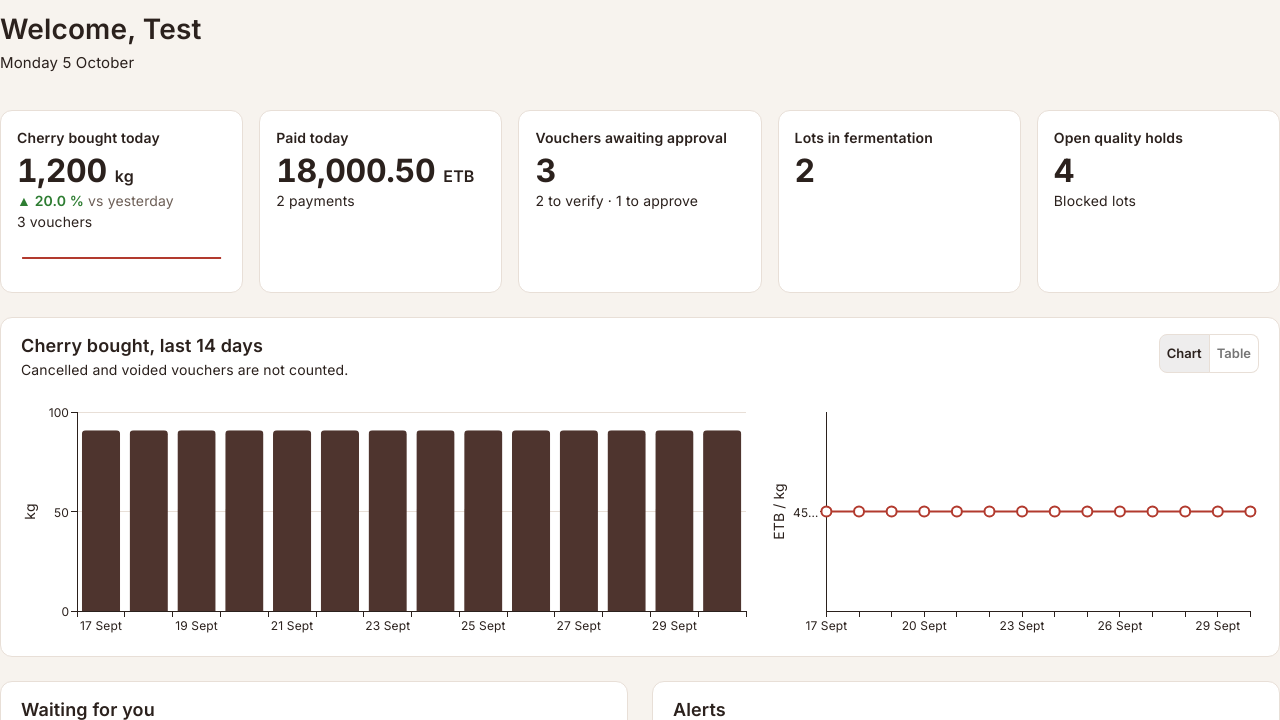
Scenario: dashboard (spec §7) › shows today vs yesterday, paid today, waiting documents and alerts per permission
expect the text "1,200" is shown: met, box [17, 153, 107, 190]
expect the element with test id "kpi-change" reads "▲ 20.0 % vs yesterday (up)": met, box [17, 190, 226, 211]
Click the button "Table". click: coordinates (1234, 354)
box: [1209, 334, 1259, 373]
(page scrolled)
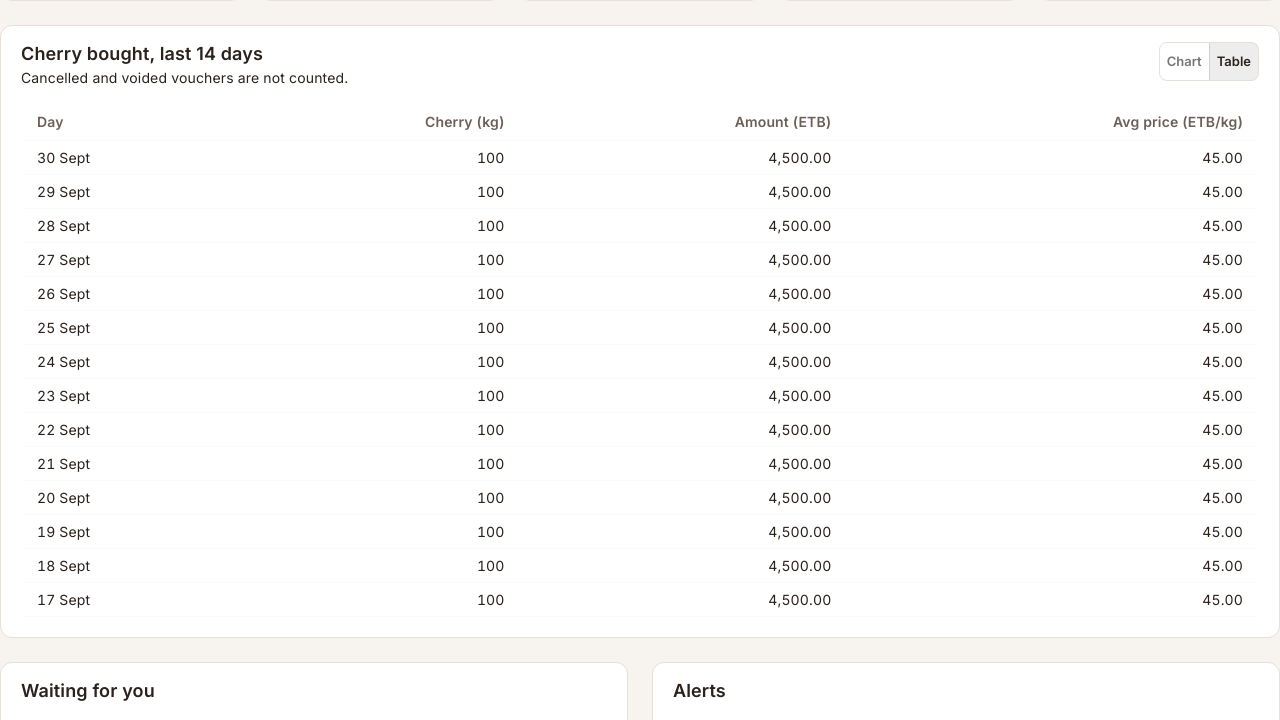
expect the table named "Cherry bought per day" is shown: met
